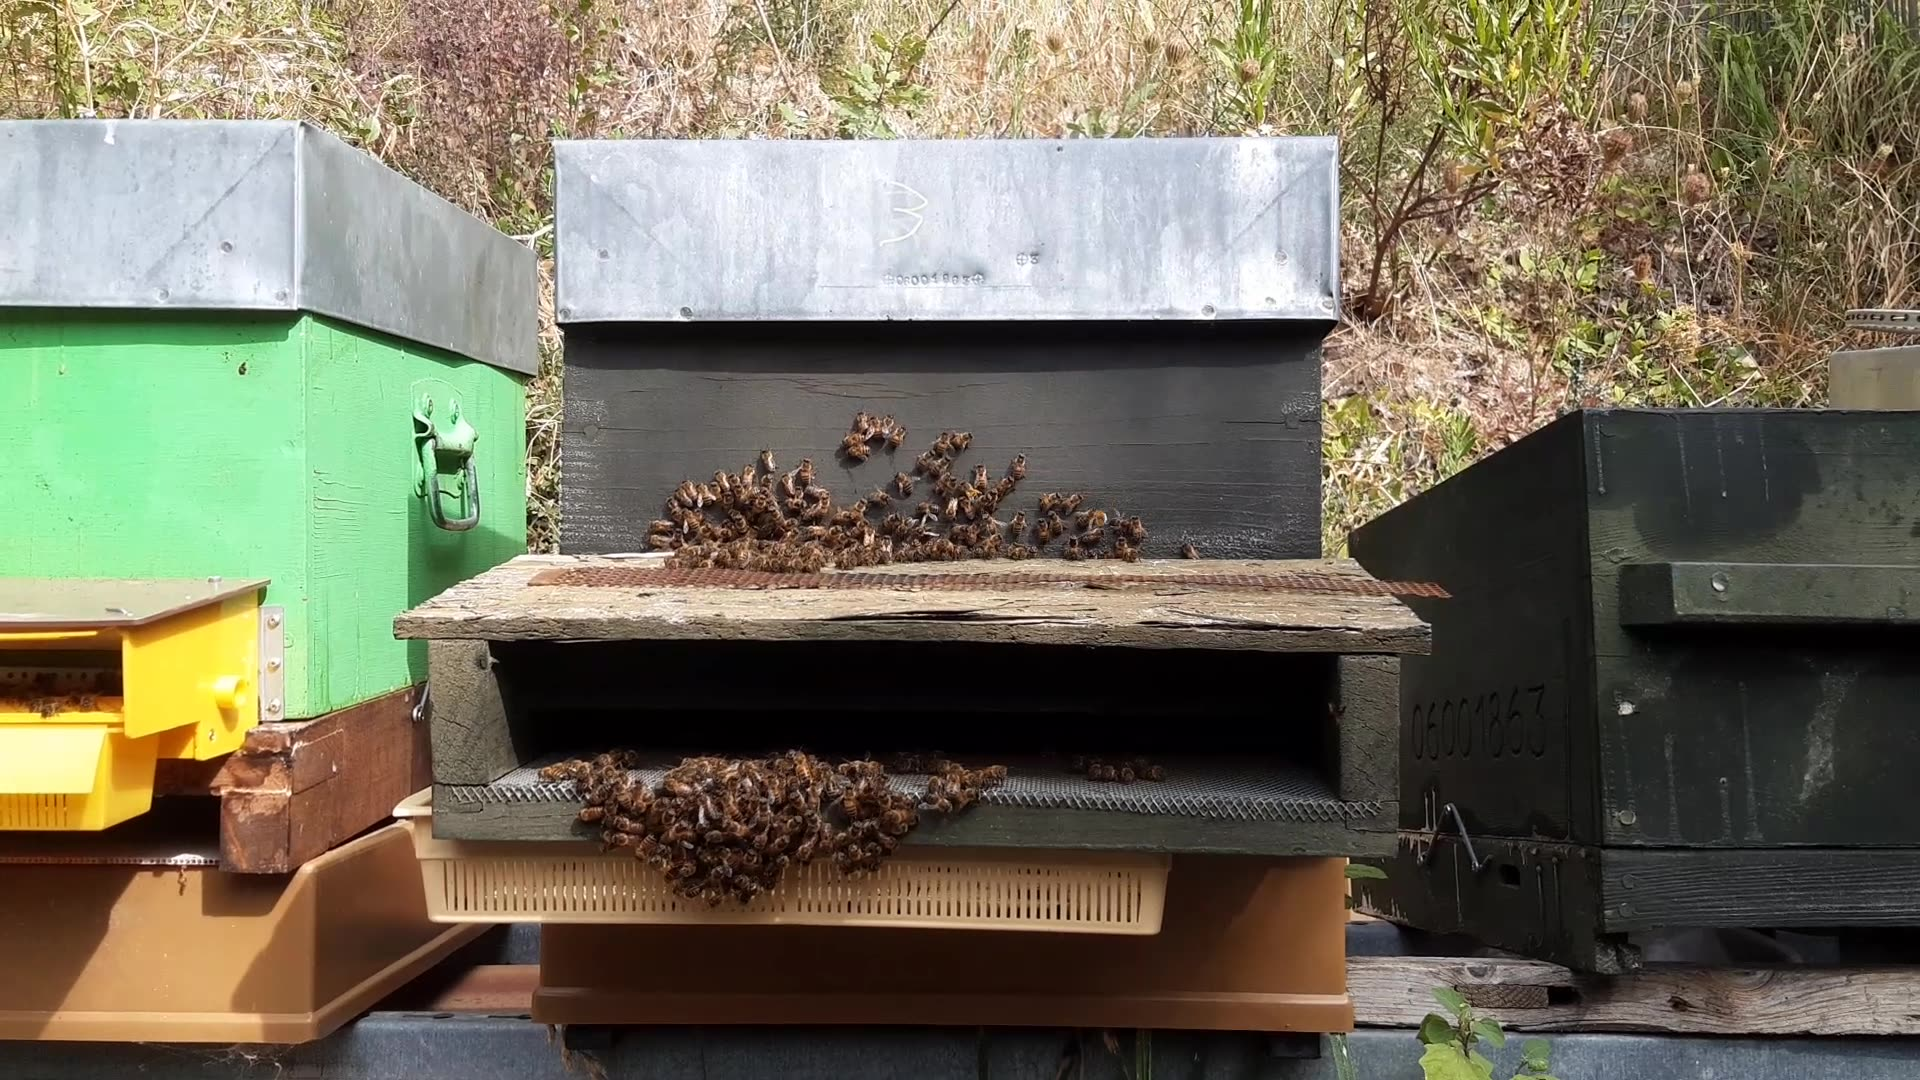bee: (658, 825, 741, 909), (902, 752, 1015, 804), (831, 828, 906, 895), (717, 735, 816, 783), (1048, 502, 1134, 556), (833, 506, 913, 563), (1346, 273, 1399, 334), (930, 508, 988, 562), (746, 512, 804, 558), (851, 423, 913, 465), (934, 462, 986, 510), (742, 467, 796, 512)
